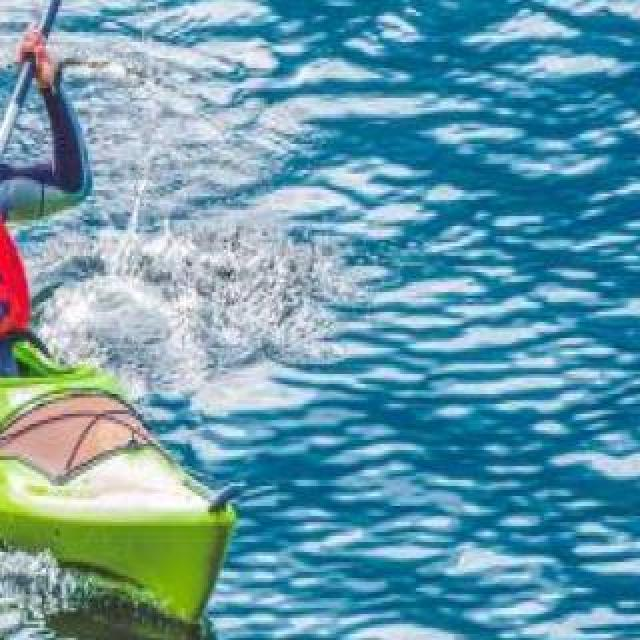kayak: (0, 341, 234, 621)
